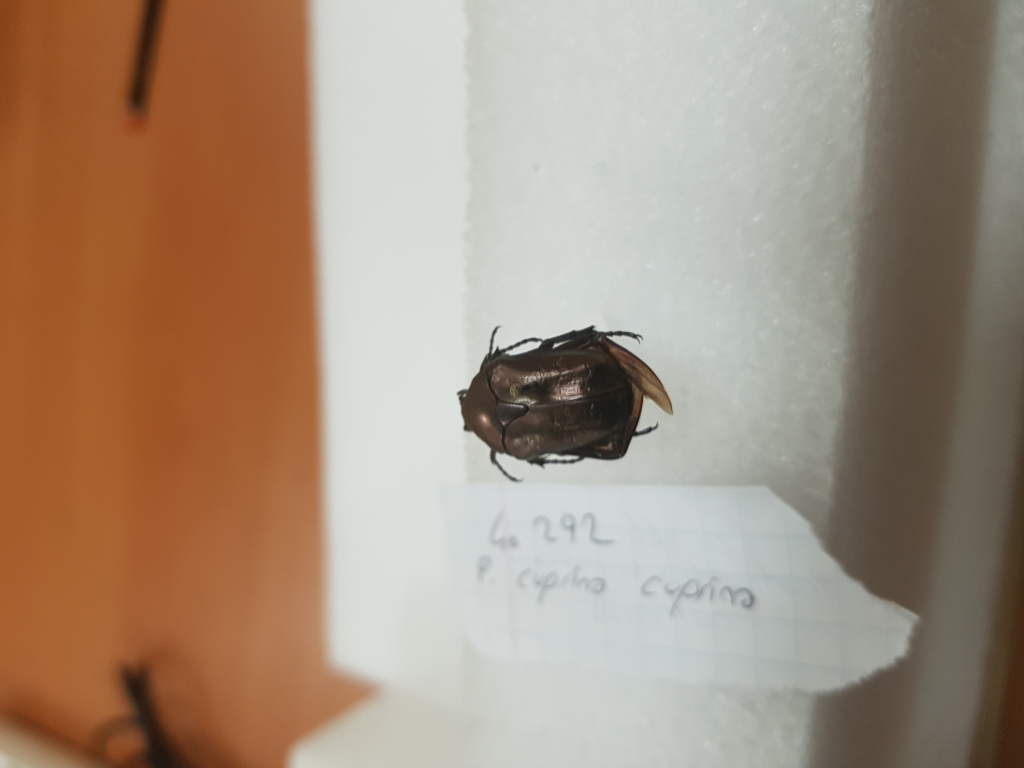Protaetia_cuprina_cuprina: (456, 301, 679, 494)
